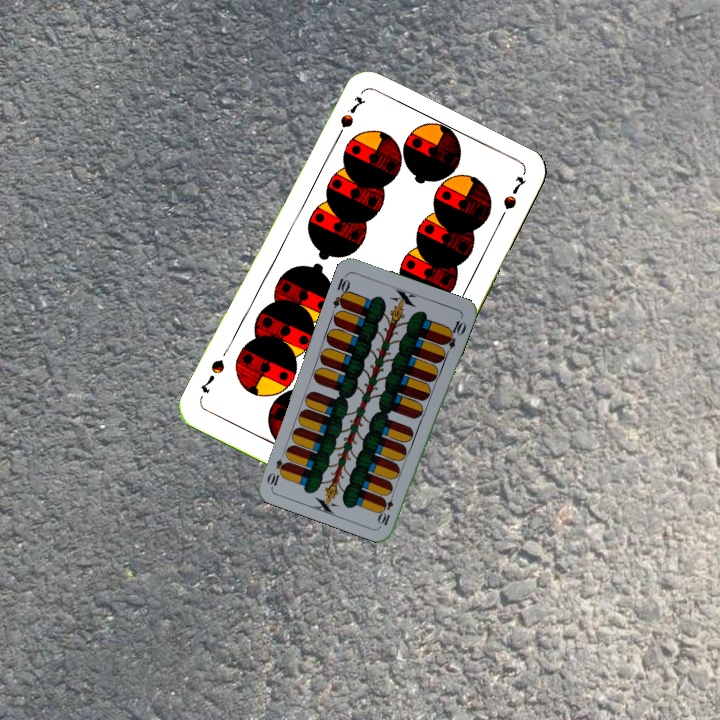E10: (329, 271, 353, 311), (375, 488, 397, 528)
S7: (330, 92, 367, 146)
